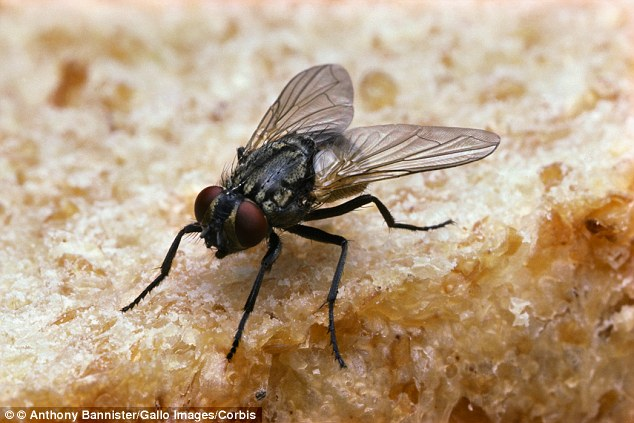green bottles fly: (121, 39, 506, 372)
